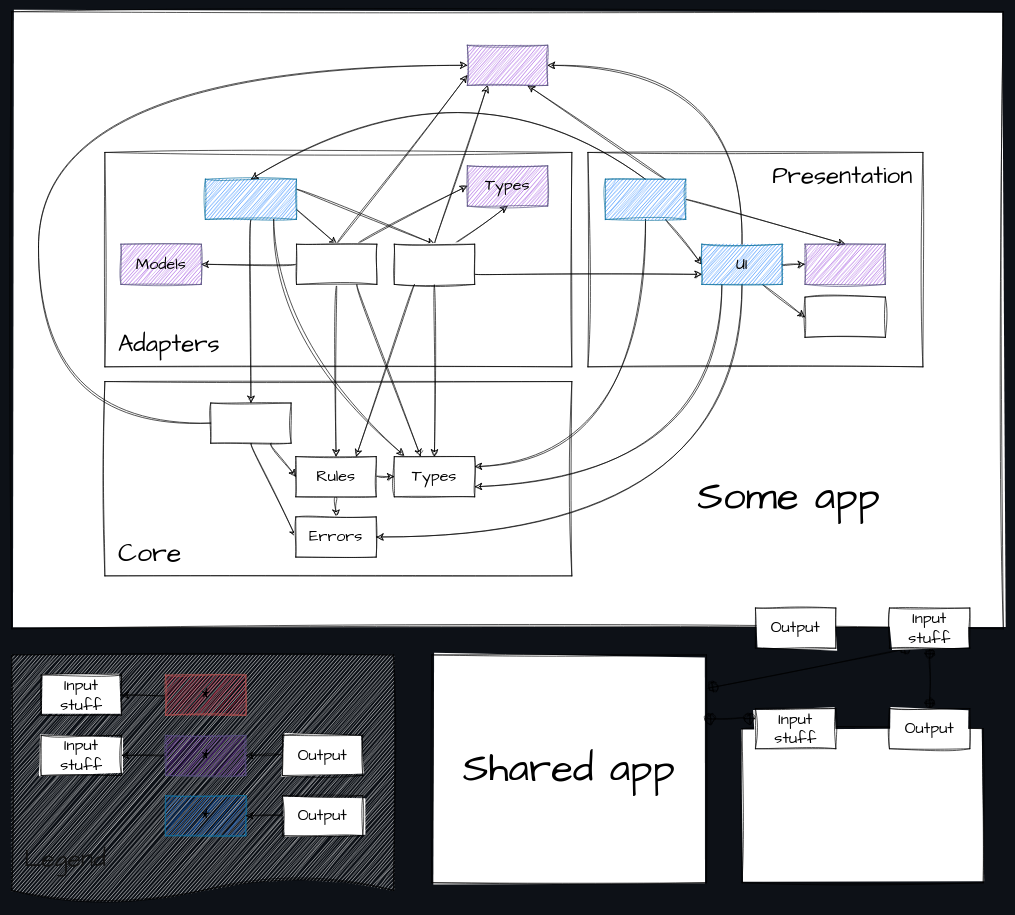
Some shapes in this 1015 by 915 pixel diagram are drawn without their labels. The box of each missing label's shape, as (x1, y1, x2, y2) in pixels:
Cases: (210, 402, 291, 443)
Controllers: (205, 179, 296, 219)
Forms: (804, 244, 885, 284)
Lib: (467, 45, 548, 85)
Other app: (741, 728, 983, 883)
Repos: (296, 244, 377, 284)
Services: (394, 244, 475, 284)
Templates: (804, 296, 885, 337)
Views: (605, 179, 686, 219)
